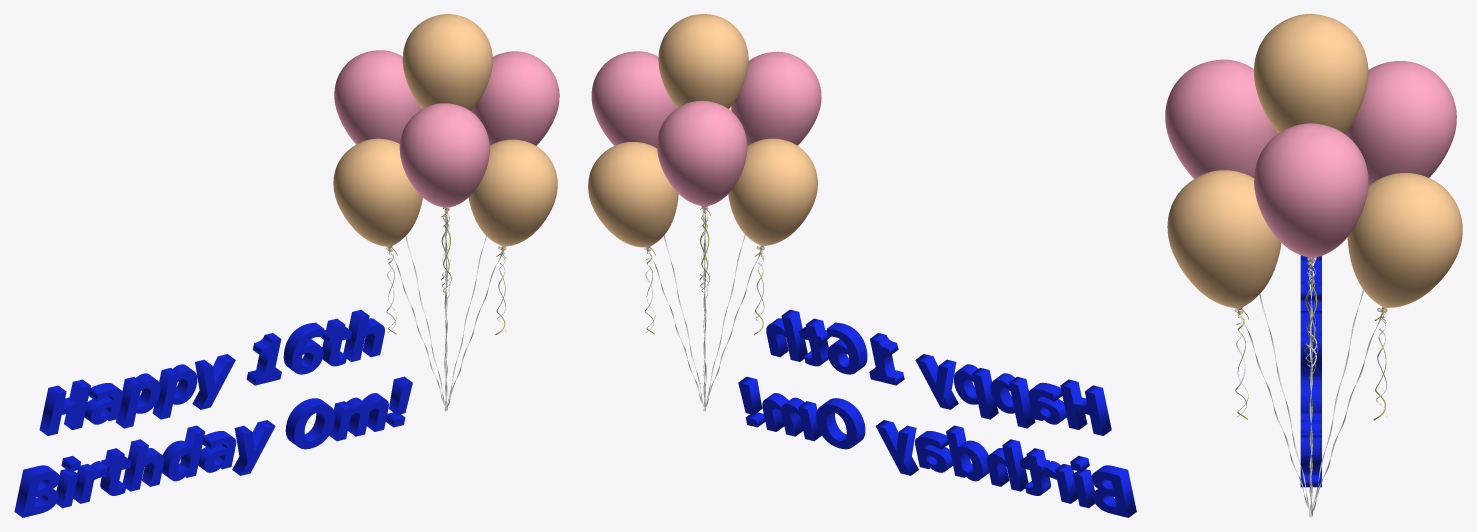
The model's file is hbd1.glb.
The picture shows the model from 3 angles, left to right: view 1: azimuth 30°, elevation 25°; view 2: azimuth 150°, elevation 25°; view 3: azimuth 270°, elevation 25°; orthographic projection. The views are drawn at different scales.
Visible parts, largest first — view 1: 13499_Balloon_Cluster_v1_L2, Text; view 2: 13499_Balloon_Cluster_v1_L2, Text; view 3: 13499_Balloon_Cluster_v1_L2, Text.
Part boxes in pixels (x1=…): 13499_Balloon_Cluster_v1_L2: x1=333, y1=14, x2=559, y2=411; Text: x1=14, y1=309, x2=412, y2=517; 13499_Balloon_Cluster_v1_L2: x1=588, y1=14, x2=821, y2=411; Text: x1=738, y1=309, x2=1136, y2=517; 13499_Balloon_Cluster_v1_L2: x1=1165, y1=14, x2=1462, y2=517; Text: x1=1300, y1=255, x2=1321, y2=487.
Size of the model in its own units: 73.96 by 53.19 by 28.05.
Materials: 4 (3 with a texture image).
